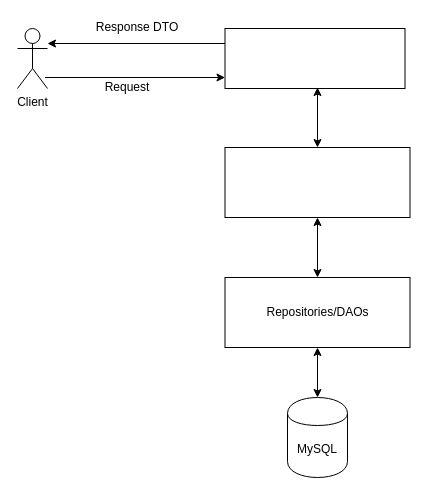
Image size: 428x495. Some labels were removed from this diagram. Here are the shapes that lost their labels. From the top down, the centre of each, then its label:
point 314,58: Controllers
point 317,182: Services
